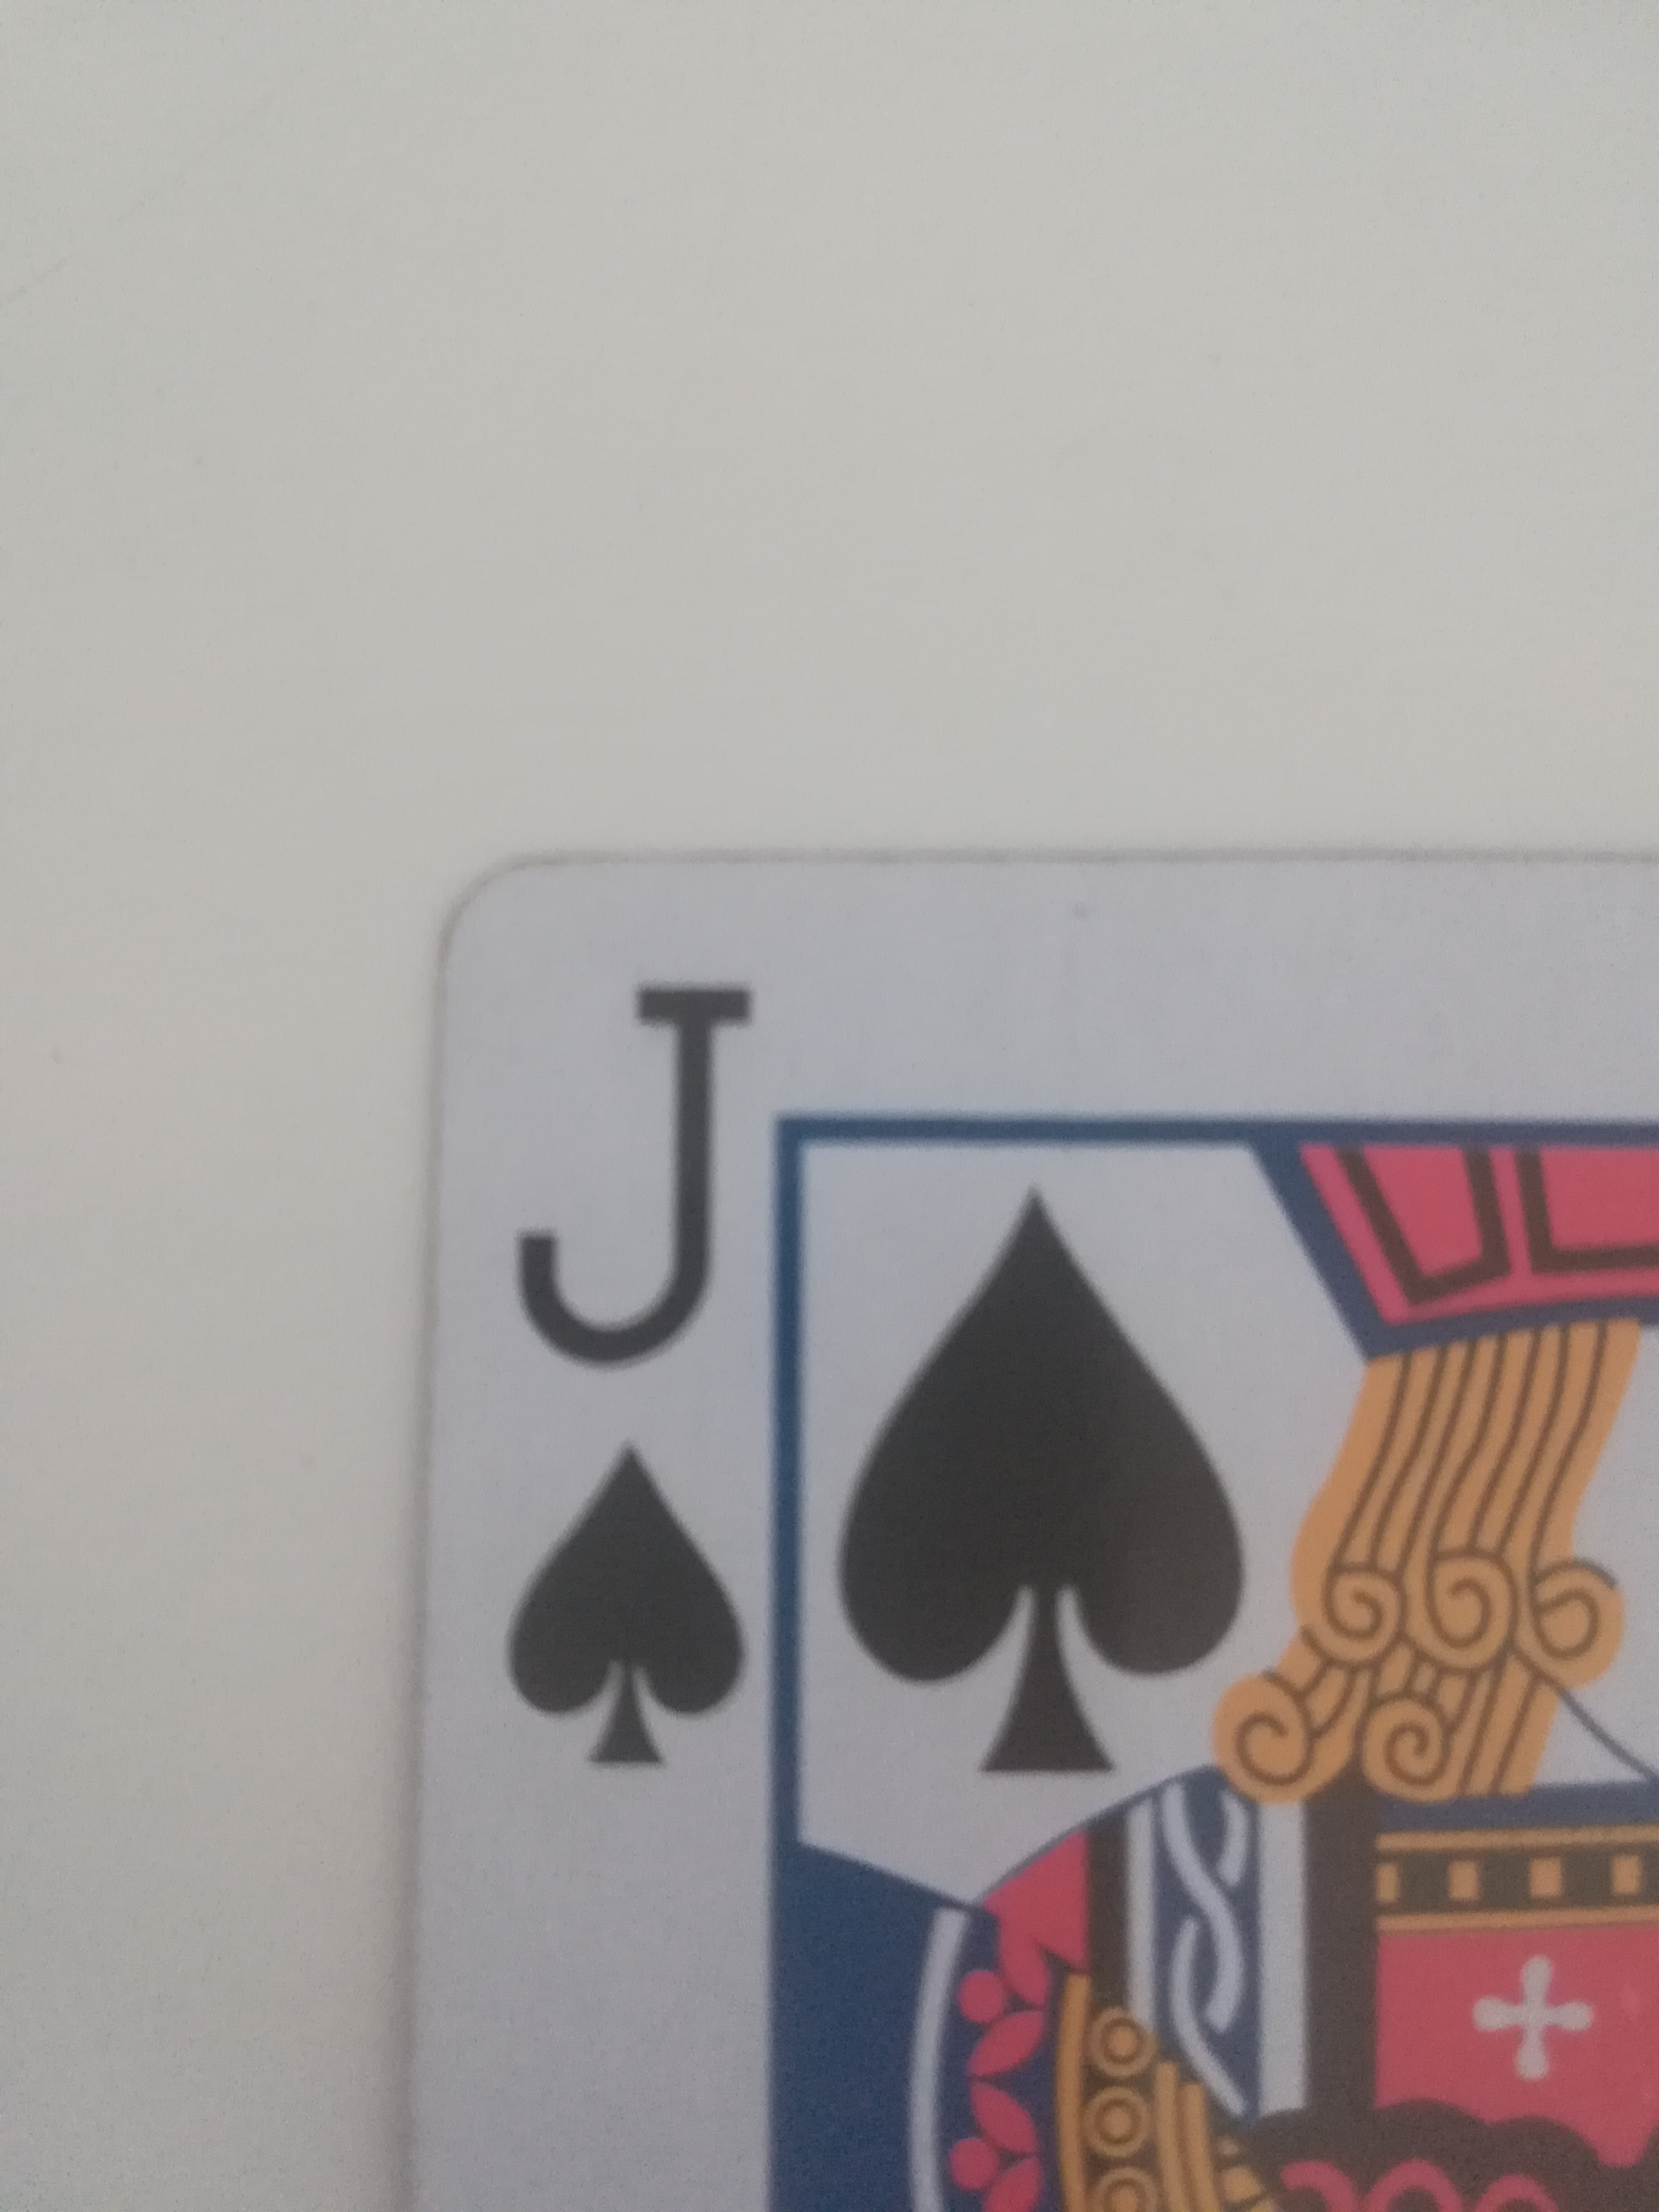JS: (401, 841, 1657, 2212)
